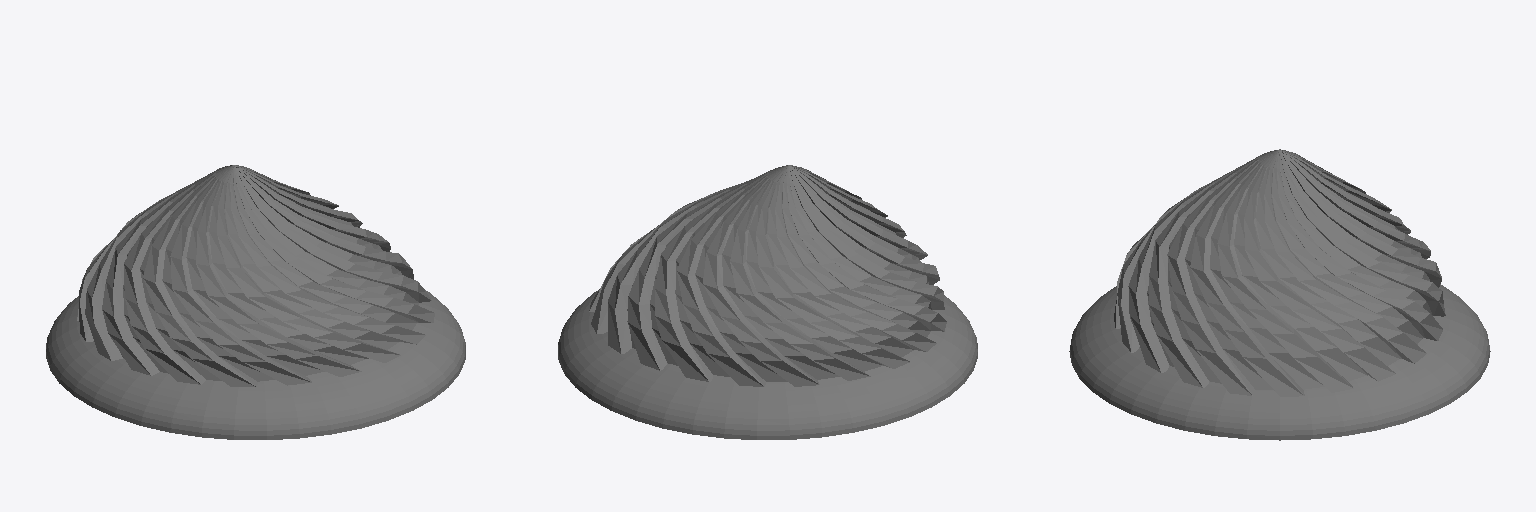
The model's file is cupcake_roof_2.obj.
3 renders of one model, left to right at view 1: azimuth 30°, elevation 25°; view 2: azimuth 150°, elevation 25°; view 3: azimuth 270°, elevation 25°, orthographic.
Parts seen in each view (by area): view 1: polySurface84_polySurface84, polySurface85_polySurface85; view 2: polySurface84_polySurface84, polySurface85_polySurface85; view 3: polySurface84_polySurface84, polySurface85_polySurface85.
Part boxes in pixels (x1,y1,x2,y2): polySurface84_polySurface84: (77,165,434,386); polySurface85_polySurface85: (46,290,465,439); polySurface84_polySurface84: (589,165,946,386); polySurface85_polySurface85: (558,290,977,439); polySurface84_polySurface84: (1114,149,1445,396); polySurface85_polySurface85: (1069,284,1490,440).
Bounding box in the file's own units: 1.33 × 0.6658 × 1.33.